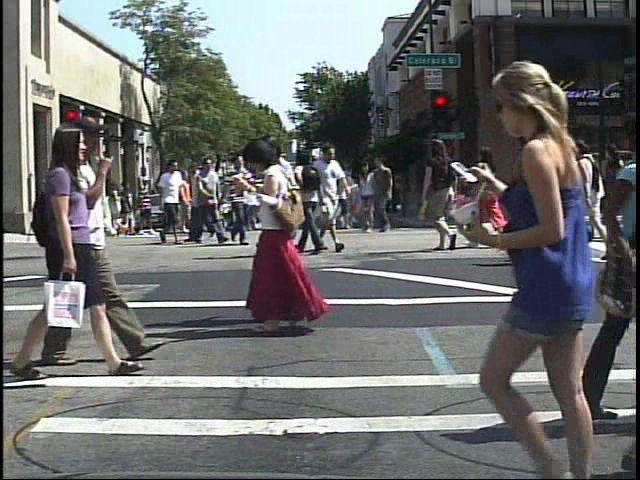person: (447, 57, 620, 480), (7, 118, 128, 381), (236, 134, 323, 334), (75, 108, 138, 371), (267, 130, 322, 331), (568, 132, 615, 284), (418, 134, 466, 263), (538, 120, 579, 269), (251, 136, 296, 263), (466, 143, 511, 256), (295, 150, 340, 261), (311, 142, 353, 251), (191, 154, 228, 249), (221, 151, 255, 247), (576, 147, 608, 244), (156, 157, 190, 244), (135, 173, 155, 242), (71, 182, 92, 232)
